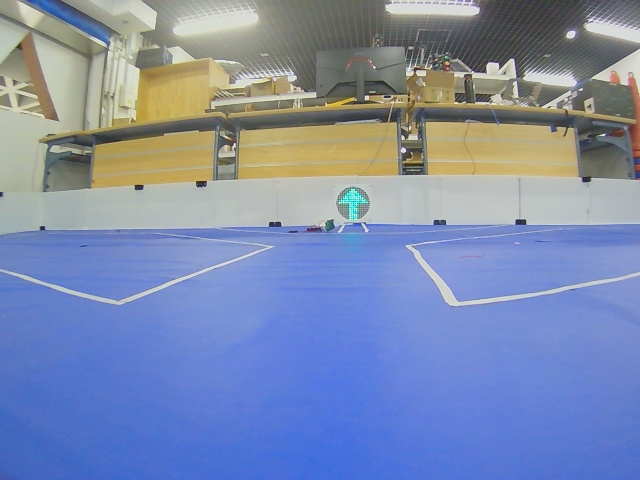straight_green: (336, 187, 370, 221)
